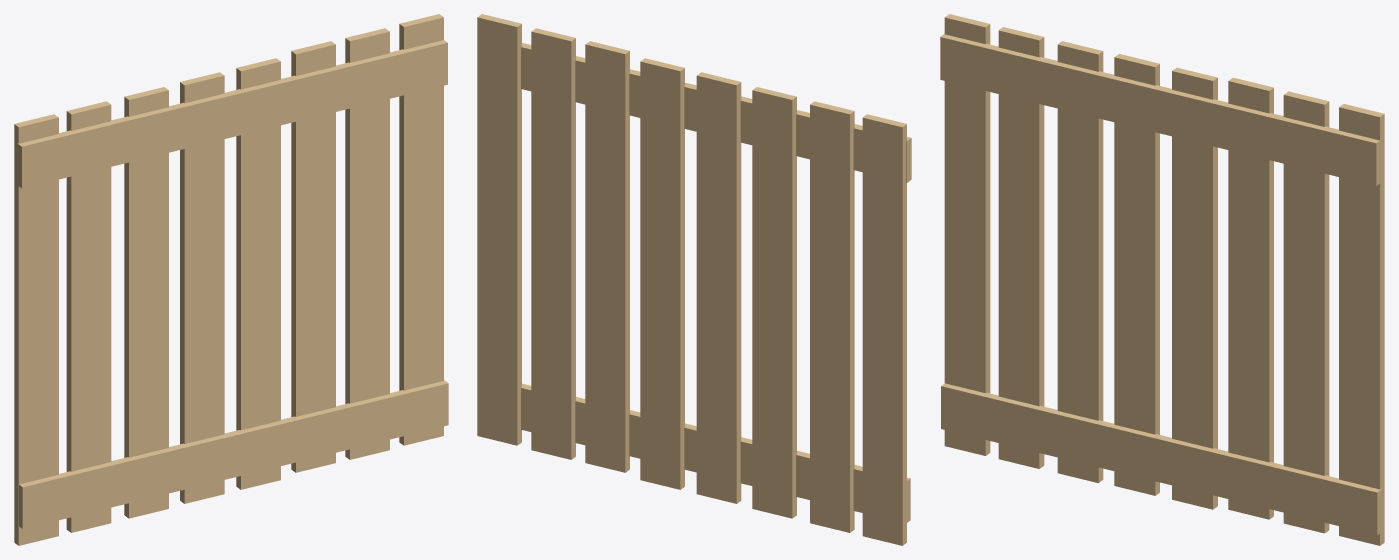
The model's file is wood.fbx.
3 views of the same model, side by side, from view 1: azimuth 30°, elevation 25°; view 2: azimuth 150°, elevation 25°; view 3: azimuth 330°, elevation 25° (orthographic). The views are drawn at different scales.
Parts seen in each view (by area): view 1: Cube, Cube.002, Cube.009, Cube.008, Cube.003, Cube.004, Cube.005, Cube.001, Cube.006, Cube.007; view 2: Cube.006, Cube.003, Cube.004, Cube.005, Cube.009, Cube.001, Cube.008, Cube.007, Cube, Cube.002; view 3: Cube.002, Cube, Cube.001, Cube.008, Cube.003, Cube.009, Cube.007, Cube.005, Cube.006, Cube.004.
Part boxes in pixels (bbox=[...]): Cube: bbox=[17, 40, 447, 188]; Cube.002: bbox=[19, 380, 448, 528]; Cube.009: bbox=[14, 114, 58, 545]; Cube.008: bbox=[66, 101, 111, 532]; Cube.003: bbox=[345, 28, 389, 459]; Cube.004: bbox=[291, 41, 335, 472]; Cube.005: bbox=[236, 58, 280, 489]; Cube.001: bbox=[399, 14, 443, 445]; Cube.006: bbox=[180, 72, 224, 503]; Cube.007: bbox=[124, 87, 168, 518]; Cube.006: bbox=[696, 72, 741, 503]; Cube.003: bbox=[531, 28, 575, 459]; Cube.004: bbox=[585, 41, 629, 472]; Cube.005: bbox=[640, 58, 684, 489]; Cube.009: bbox=[862, 114, 906, 545]; Cube.001: bbox=[477, 14, 521, 445]; Cube.008: bbox=[810, 101, 854, 532]; Cube.007: bbox=[752, 87, 796, 518]; Cube: bbox=[521, 43, 911, 182]; Cube.002: bbox=[521, 383, 910, 522]; Cube.002: bbox=[941, 383, 1381, 535]; Cube: bbox=[940, 34, 1380, 186]; Cube.001: bbox=[1339, 104, 1384, 545]; Cube.008: bbox=[998, 27, 1044, 468]; Cube.003: bbox=[1283, 91, 1329, 533]; Cube.009: bbox=[944, 14, 990, 455]; Cube.007: bbox=[1057, 41, 1103, 483]; Cube.005: bbox=[1172, 67, 1217, 509]; Cube.006: bbox=[1114, 54, 1159, 495]; Cube.004: bbox=[1228, 77, 1273, 519].
Bounding box in the file's own units: 213 × 203 × 7.25.
